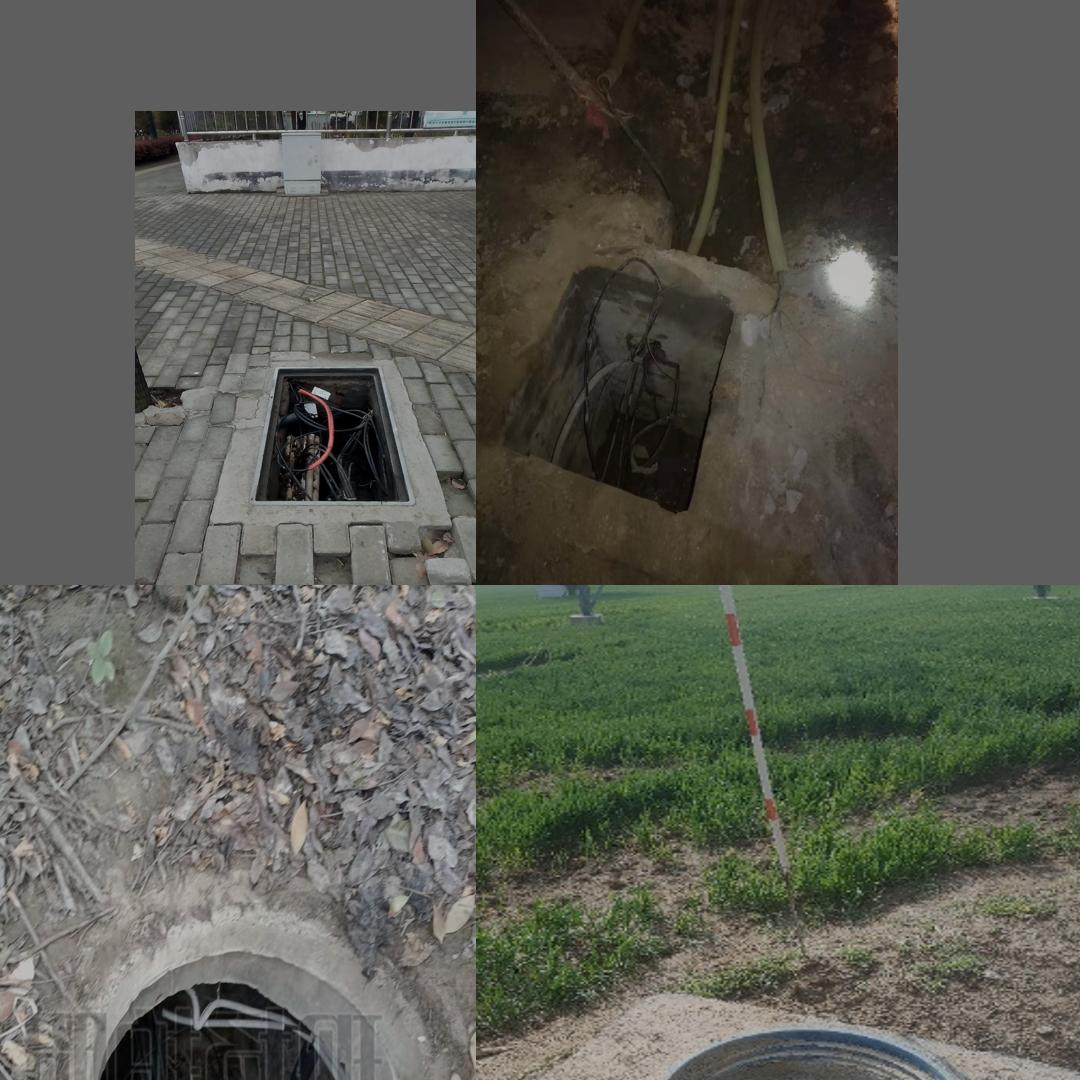lose: (496, 235, 760, 522), (81, 943, 405, 1080), (253, 347, 412, 508), (641, 1024, 994, 1080)
